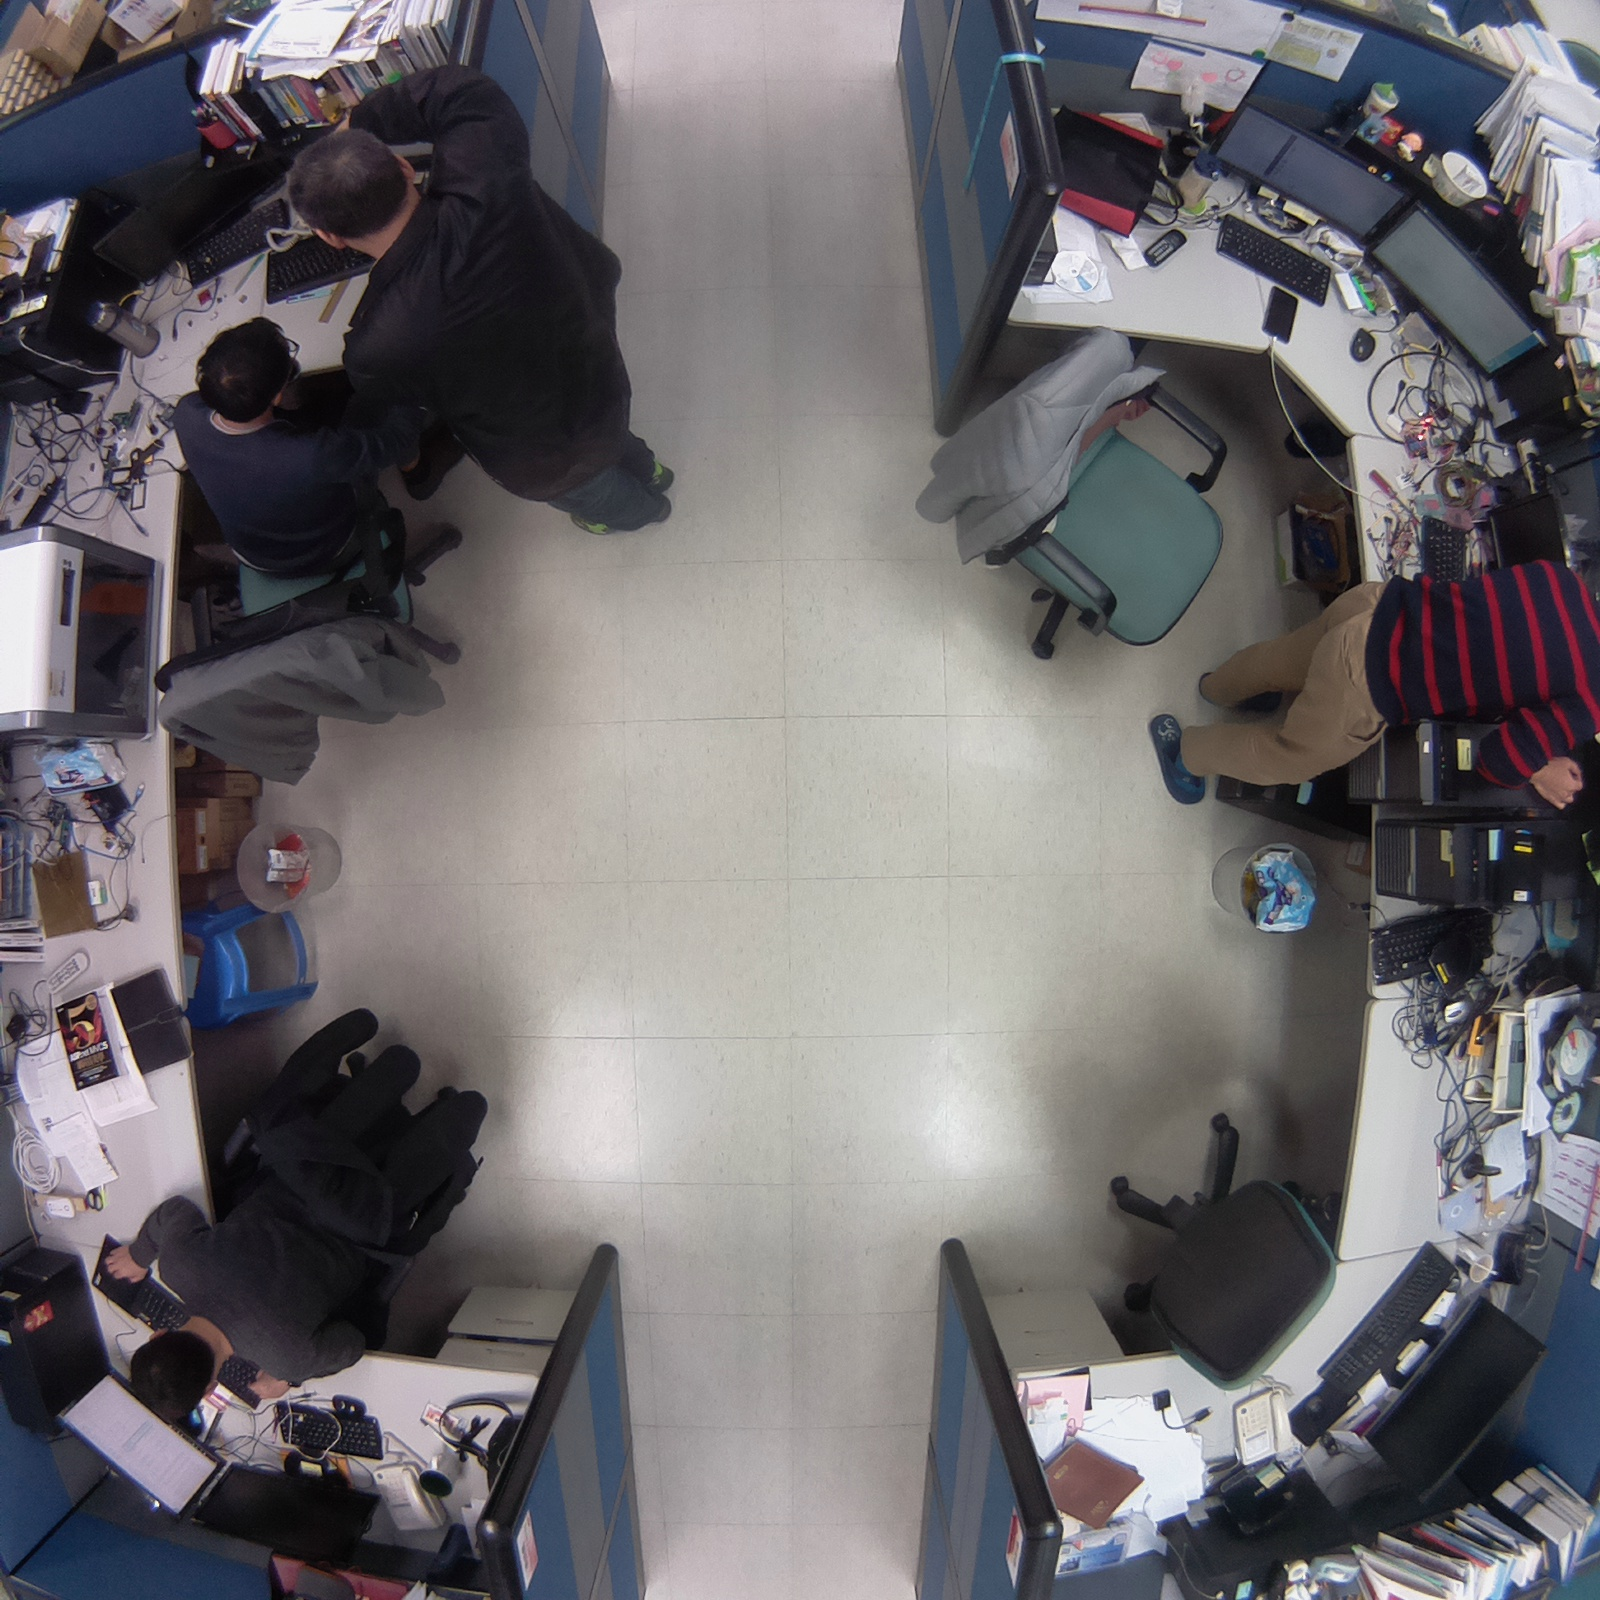chair: (909, 299, 1240, 683), (1091, 1101, 1345, 1399)
head: (278, 121, 423, 251), (185, 306, 312, 425), (119, 1317, 223, 1423)
sitting: (82, 993, 512, 1420), (145, 312, 494, 806), (1147, 506, 1600, 821)
standing: (282, 60, 698, 547)
